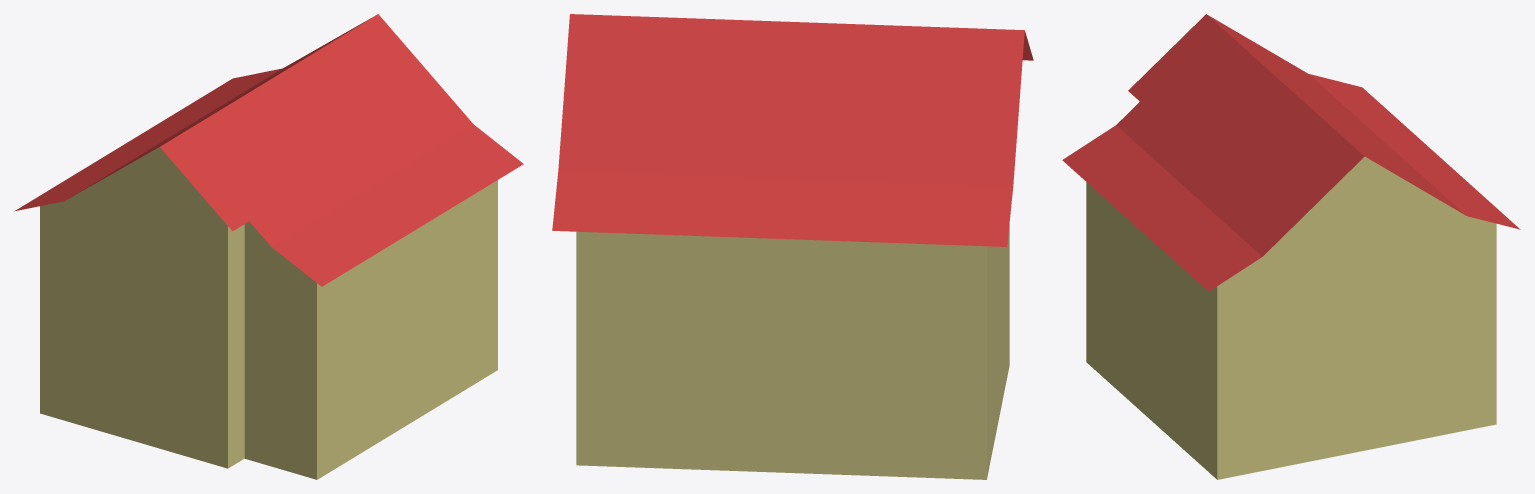
3 renders of one model, left to right at view 1: azimuth 30°, elevation 25°; view 2: azimuth 150°, elevation 25°; view 3: azimuth 270°, elevation 25°, orthographic. The views are drawn at different scales.
Bounding box in the file's own units: 19.99 × 18.95 × 13.8.
